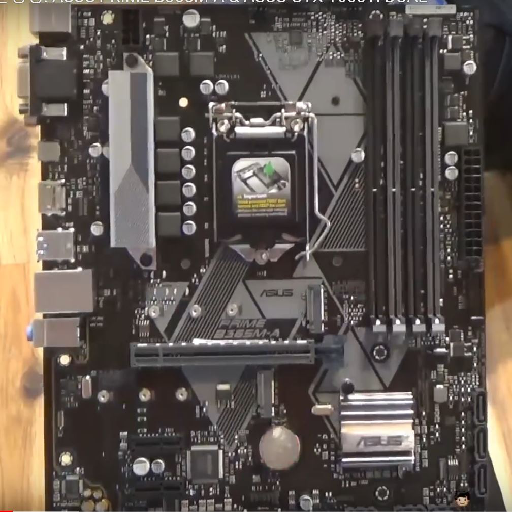CPU: (208, 101, 310, 262)
GPU: (127, 334, 344, 370)
MOTHERBOARD: (41, 7, 484, 508)
RAM: (365, 17, 447, 340)
SSD: (304, 285, 329, 334), (256, 369, 276, 419)
